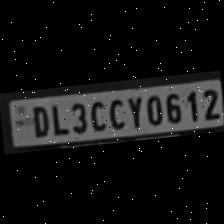0: (140, 90, 164, 126)
1: (181, 86, 200, 121)
2: (197, 84, 222, 120)
3: (64, 99, 88, 134)
6: (160, 88, 182, 124)
C: (103, 94, 125, 130), (86, 96, 106, 132)
D: (26, 101, 49, 137)
L: (46, 99, 68, 135)
Y: (122, 92, 144, 128)
